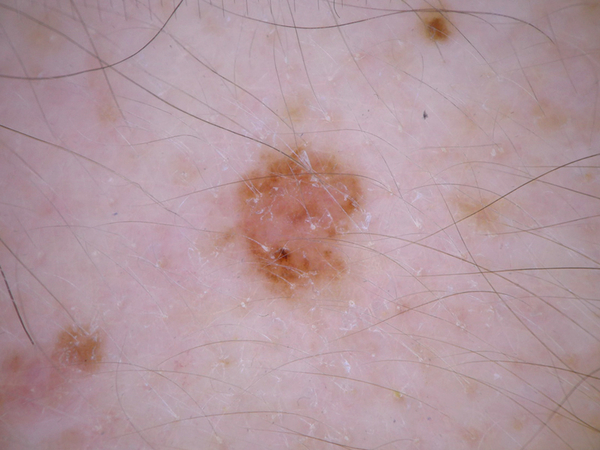Detected Lesion: (227, 136, 367, 304)
